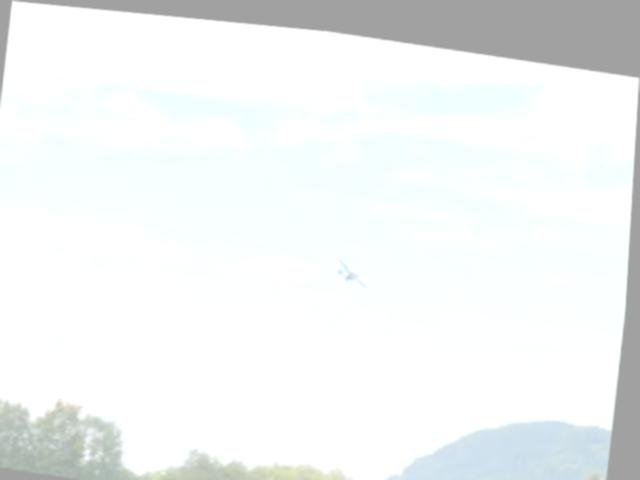uav: (339, 249, 372, 284)
